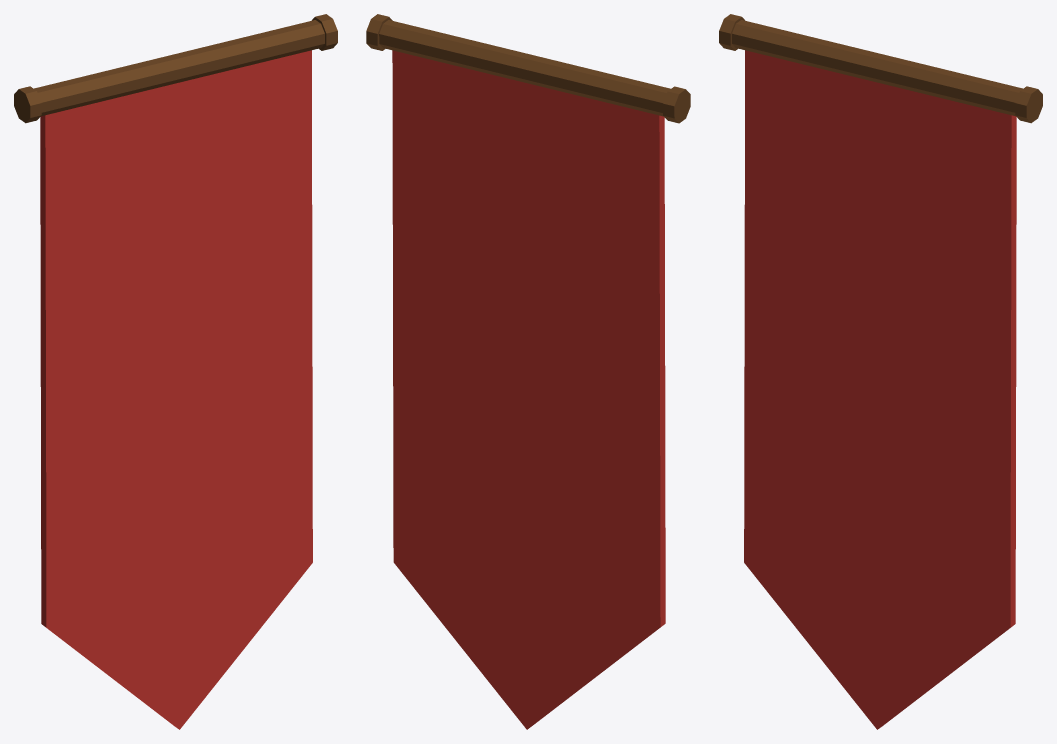
The model's file is Banner_3.fbx.
3 renders of one model, left to right at view 1: azimuth 30°, elevation 25°; view 2: azimuth 150°, elevation 25°; view 3: azimuth 330°, elevation 25°, orthographic.
Visible parts, largest first — view 1: bannière_3; view 2: bannière_3; view 3: bannière_3.
Part boxes in pixels (x1=…): bannière_3: x1=14, y1=14, x2=337, y2=729; bannière_3: x1=366, y1=14, x2=690, y2=729; bannière_3: x1=719, y1=14, x2=1042, y2=729.
Size of the model in its own units: 120 by 252 by 11.03.
